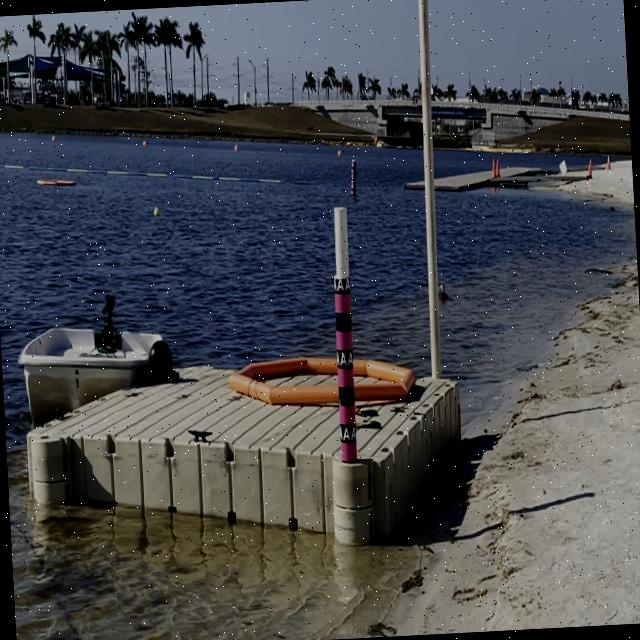buoy: (154, 208, 161, 216)
